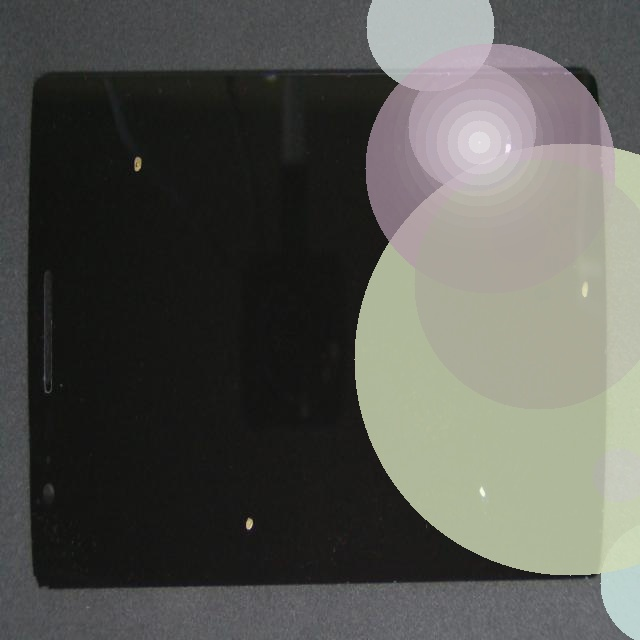stain: (261, 225, 640, 640), (287, 106, 640, 471), (133, 247, 383, 640), (272, 45, 640, 184), (74, 38, 197, 211)
